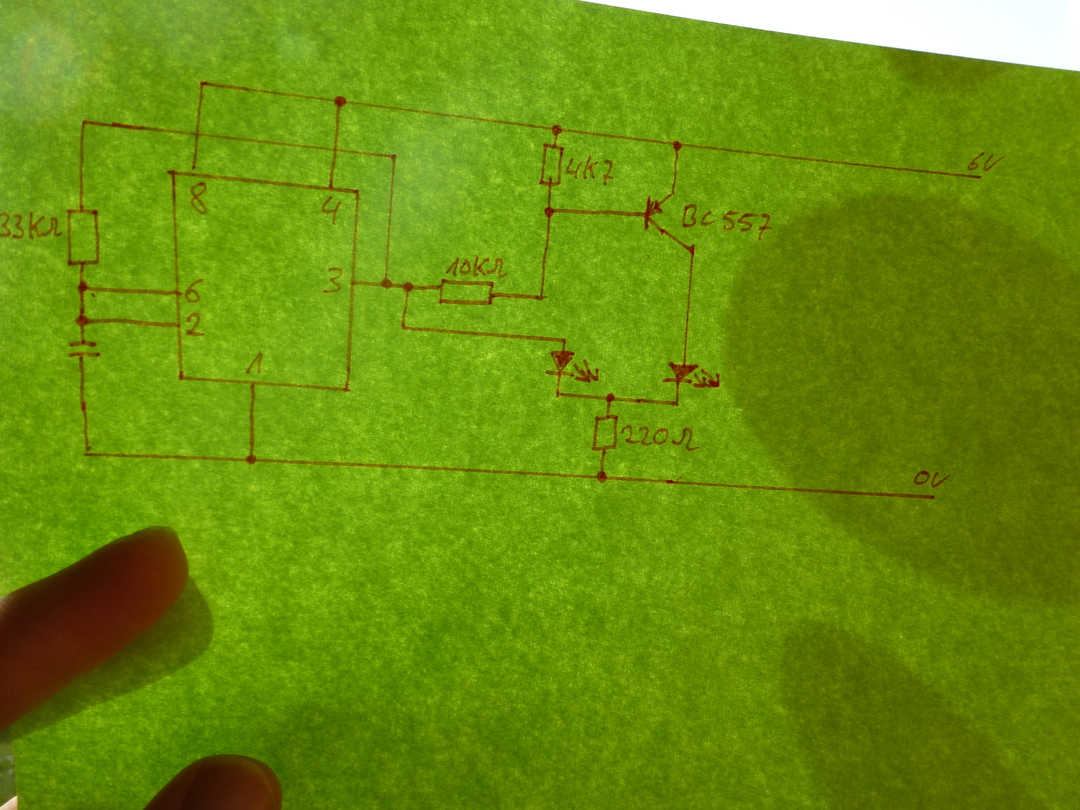capacitor.unpolarized: (67, 337, 104, 362)
crossover: (191, 127, 203, 142), (330, 144, 342, 156)
diode.light_emitting: (545, 349, 601, 385), (662, 361, 721, 390)
integrated_cricuit.ne555: (166, 168, 360, 394)
junction: (74, 312, 91, 329), (332, 93, 348, 111), (378, 275, 394, 291), (75, 280, 91, 295), (542, 204, 557, 220), (400, 280, 415, 295), (595, 469, 609, 485), (386, 150, 401, 164), (243, 453, 258, 467), (670, 138, 685, 152), (81, 445, 94, 461), (550, 123, 564, 137), (397, 320, 410, 335), (603, 392, 617, 405), (78, 116, 90, 129), (197, 77, 208, 90), (536, 292, 547, 303), (552, 389, 563, 400), (672, 397, 682, 409), (560, 335, 570, 345)
resistor: (65, 206, 102, 267), (438, 277, 497, 307), (538, 141, 565, 187), (591, 413, 619, 455)
terminal: (928, 491, 939, 502), (975, 172, 986, 182)
text: (681, 202, 773, 241), (620, 423, 699, 452), (1, 211, 62, 241), (566, 155, 614, 187), (444, 256, 509, 278), (965, 151, 1004, 172), (188, 180, 210, 216), (912, 470, 950, 489), (321, 194, 343, 226), (321, 266, 344, 294), (183, 278, 205, 303), (185, 311, 205, 338), (245, 351, 263, 376)
transistor: (643, 192, 697, 253)
